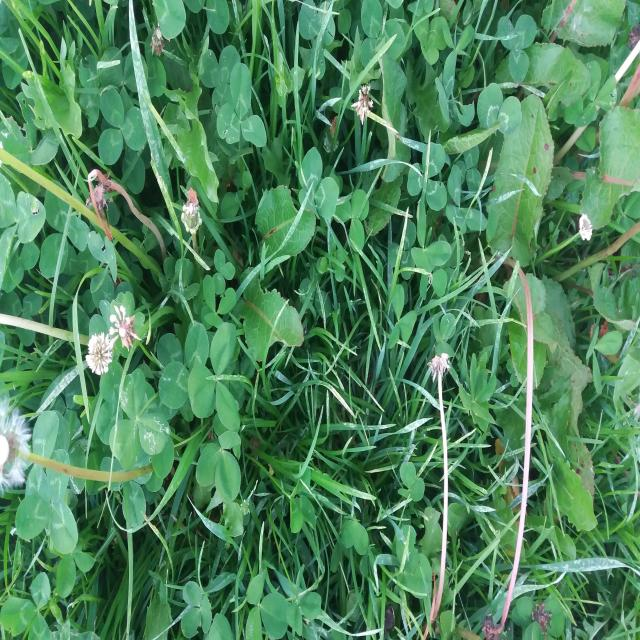Four Leaf Clover: (174, 105, 226, 185), (316, 291, 360, 355), (458, 353, 497, 424), (313, 221, 359, 279)
